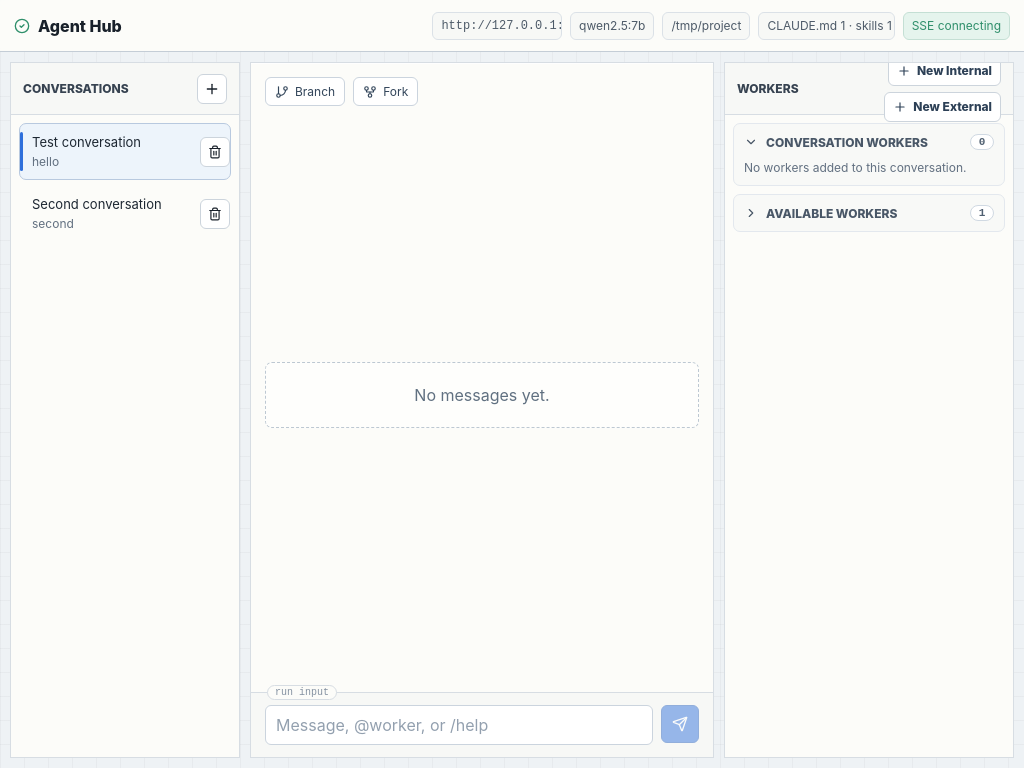
it: Agent Hub app › shows backend send errors inline
Type "@missing inspect this" into the field with placeholder "Message, @worker, or /help" at (459,725), box [265, 705, 653, 745]
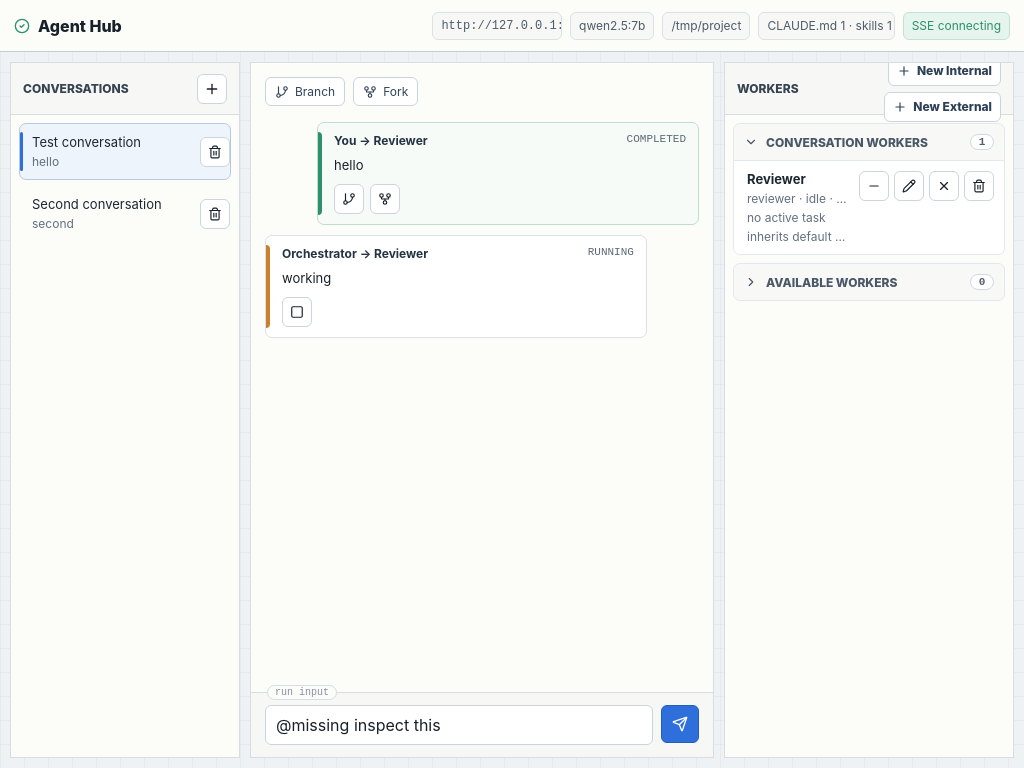
Click the button named "Send" at (680,724), box [661, 705, 699, 743]
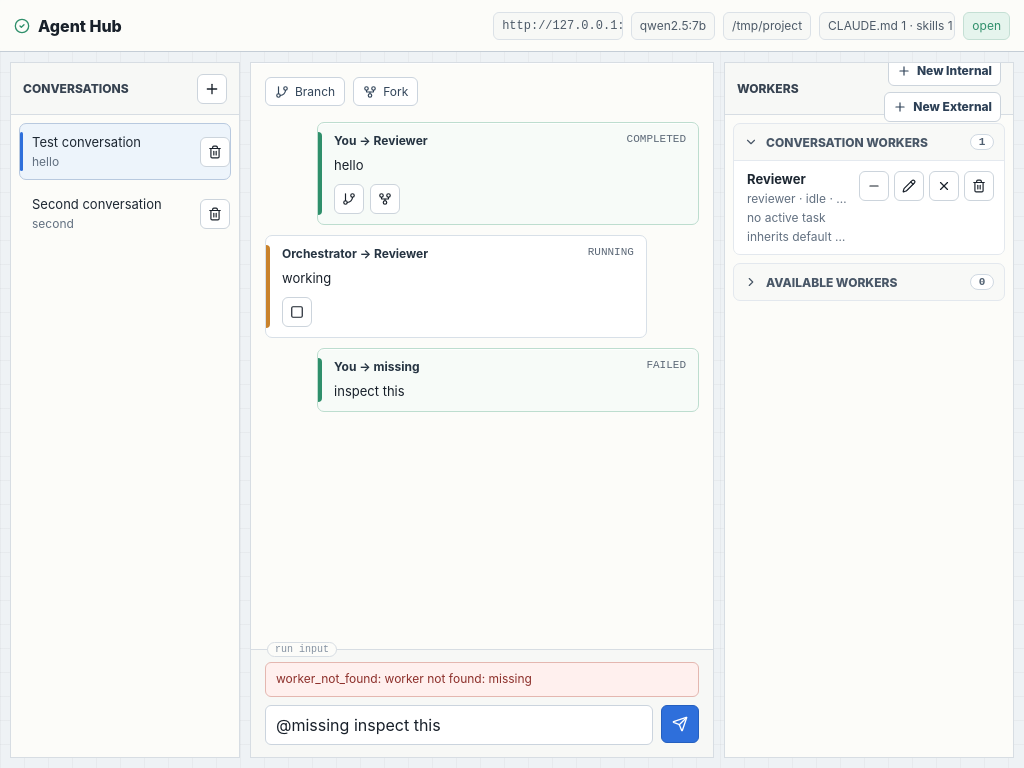
Now the text "worker_not_found: worker not found: missing" is shown, box [265, 662, 699, 697]
